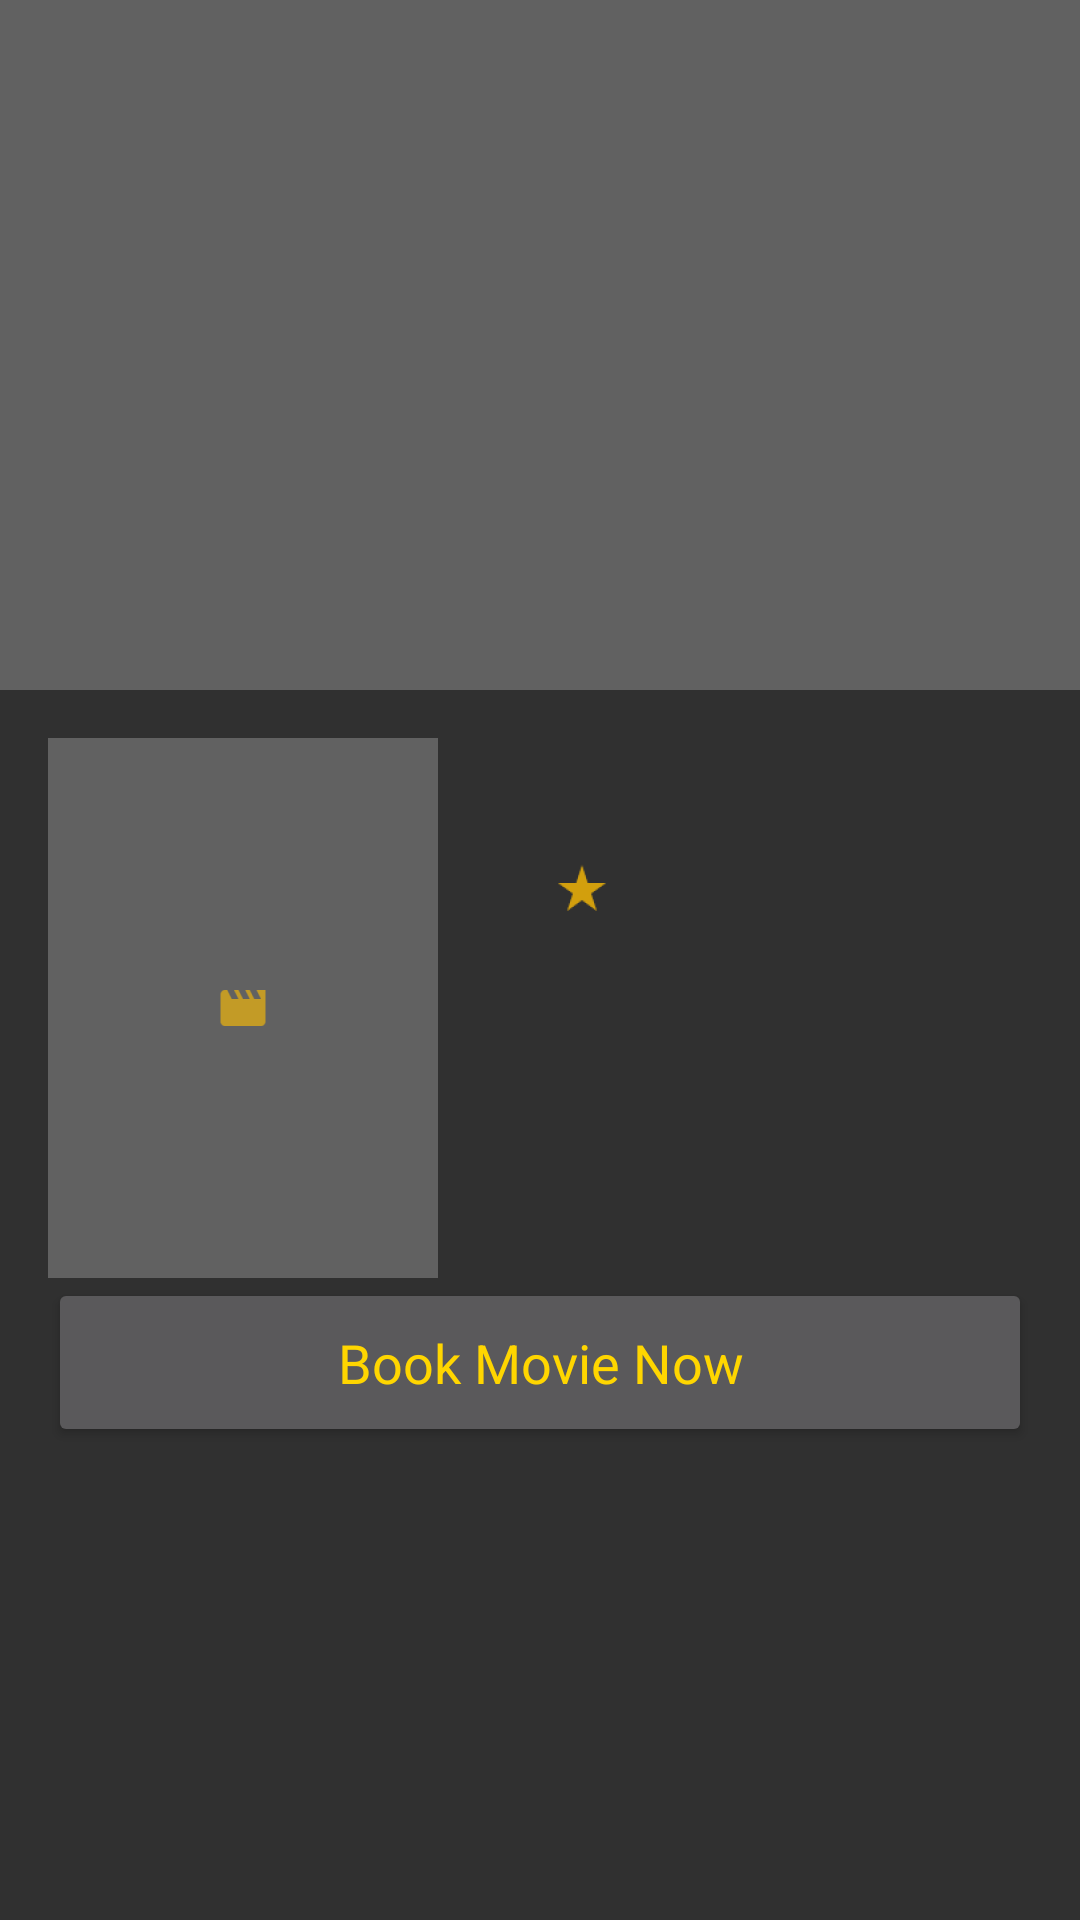

Icon click points for this 1080px x 1920px phone screenshot, format (x,y):
movie: (243,1008)
